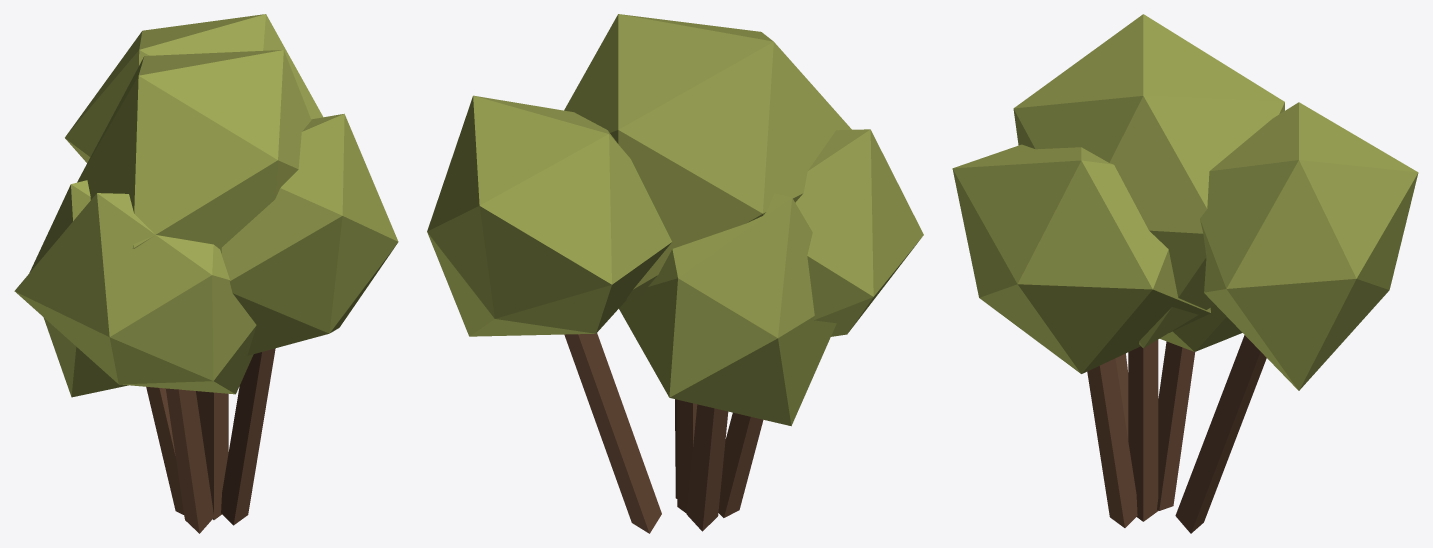
Rendered from Veg_Shrub_B.fbx.
3 renders of one model, left to right at view 1: azimuth 30°, elevation 25°; view 2: azimuth 150°, elevation 25°; view 3: azimuth 270°, elevation 25°, orthographic. The views are drawn at different scales.
Parts seen in each view (by area): view 1: Veg_Shrub_B; view 2: Veg_Shrub_B; view 3: Veg_Shrub_B.
Part boxes in pixels (bbox=[...]): Veg_Shrub_B: bbox=[14, 14, 398, 533]; Veg_Shrub_B: bbox=[427, 14, 923, 533]; Veg_Shrub_B: bbox=[952, 14, 1418, 533].
Bounding box in the file's own units: 1.13 × 1.43 × 1.29.
